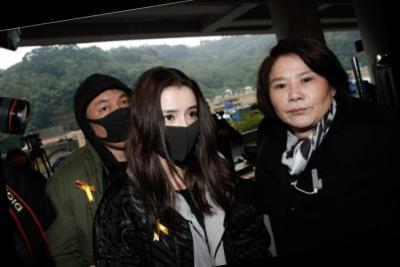with_mask: (150, 102, 211, 170), (84, 90, 142, 157)
without_mask: (265, 66, 339, 134)
